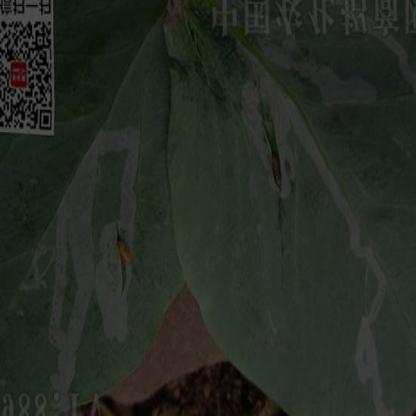whorl-maggot: (113, 230, 134, 272), (270, 150, 286, 196)
